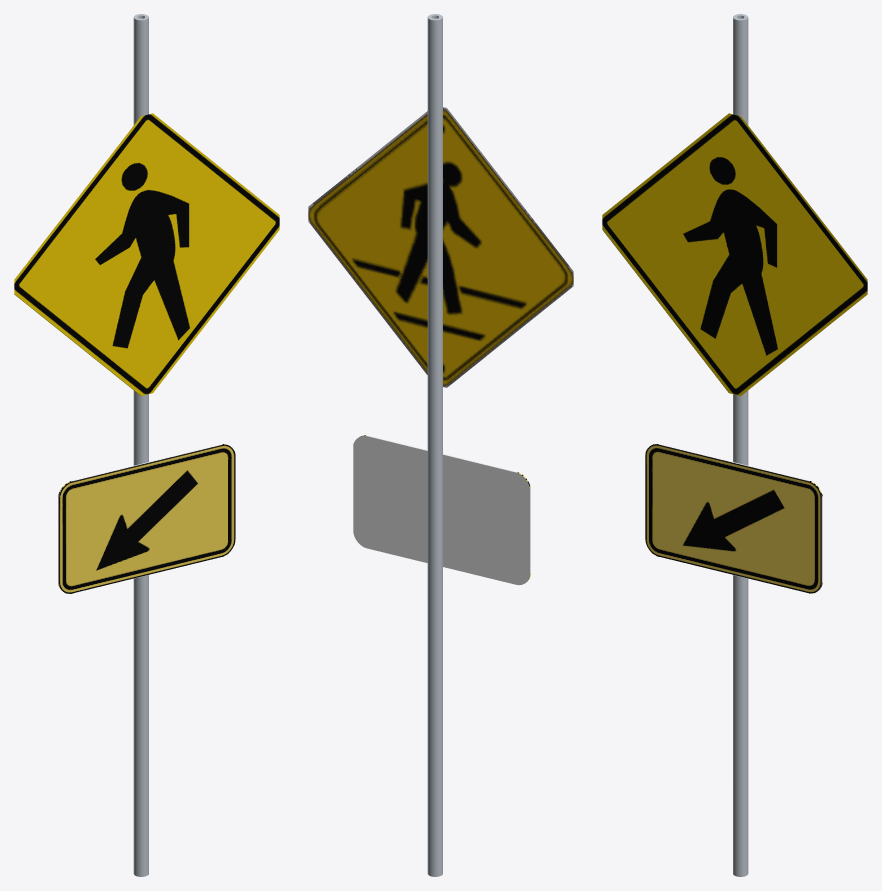
Rendered from CrossingSign.fbx.
3 views of the same model, side by side, from view 1: azimuth 30°, elevation 25°; view 2: azimuth 150°, elevation 25°; view 3: azimuth 330°, elevation 25° (orthographic).
Parts seen in each view (by area): view 1: Group3, Model, Group2; view 2: Group3, Model, Group2; view 3: Group3, Model, Group2.
Part boxes in pixels (bbox=[...]): Group3: bbox=[14, 113, 279, 395]; Model: bbox=[58, 444, 235, 593]; Group2: bbox=[133, 14, 148, 876]; Group3: bbox=[308, 107, 573, 387]; Model: bbox=[353, 435, 530, 585]; Group2: bbox=[427, 14, 442, 876]; Group3: bbox=[602, 113, 867, 395]; Model: bbox=[645, 444, 822, 593]; Group2: bbox=[733, 14, 748, 876].
Bounding box in the file's own units: 1.02 × 3.16 × 0.0679.
